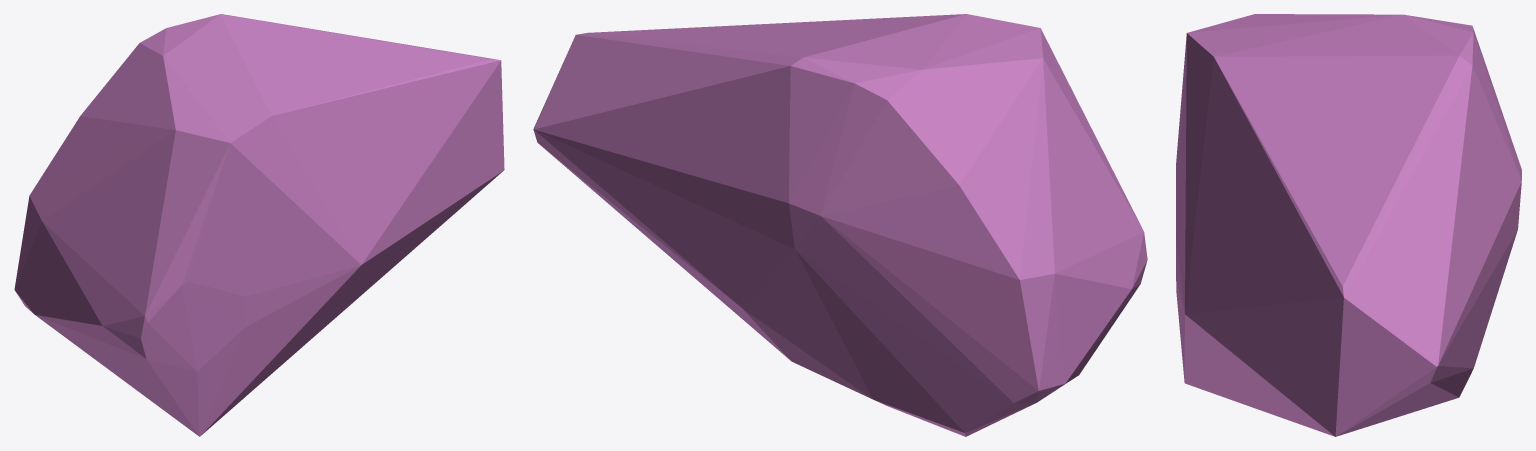
The model's file is drivetrain_transfer_case_c01.glb.
3 views of the same model, side by side, from view 1: azimuth 30°, elevation 25°; view 2: azimuth 150°, elevation 25°; view 3: azimuth 270°, elevation 25° (orthographic). The views are drawn at different scales.
Visible parts, largest first — view 1: geometry_0; view 2: geometry_0; view 3: geometry_0.
Boxes of the visible parts, <box> form: geometry_0: <box>14,14,504,436</box>; geometry_0: <box>533,14,1147,436</box>; geometry_0: <box>1176,14,1521,436</box>.
Bounding box in the file's own units: 0.477 × 0.3258 × 0.2503.
